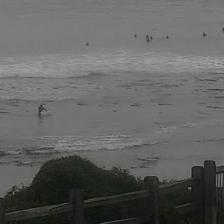surfer: (38, 104, 47, 113), (162, 35, 170, 39), (148, 35, 153, 40), (85, 42, 90, 46), (202, 32, 206, 37), (146, 38, 151, 42), (145, 34, 149, 38), (221, 26, 223, 33), (134, 34, 136, 38)
